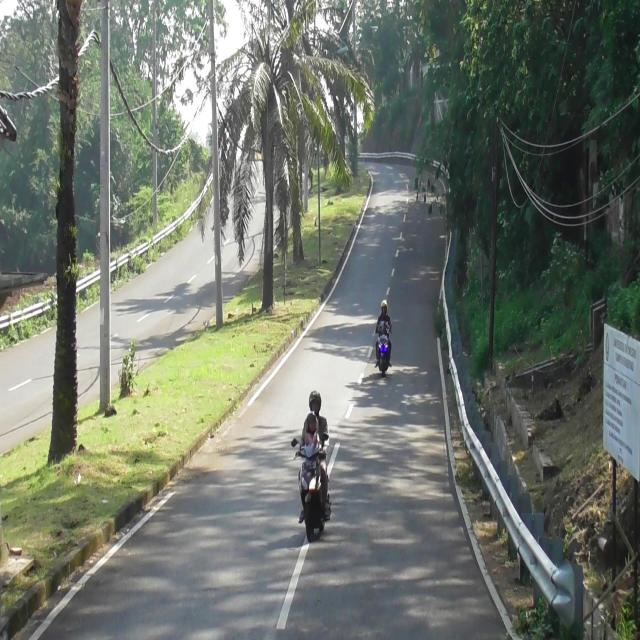motorcycle: (290, 437, 328, 540), (376, 326, 392, 377)
person: (298, 391, 329, 514), (373, 297, 395, 338), (301, 416, 321, 454)
rider_region: (293, 389, 334, 544), (375, 295, 395, 376)
